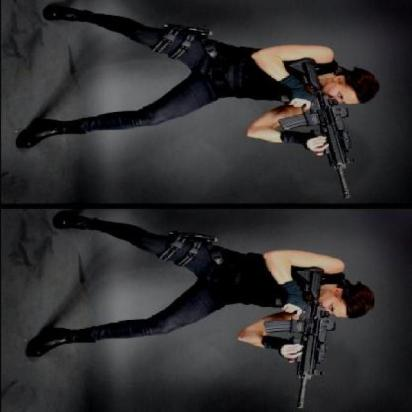Gun: (272, 57, 368, 191), (258, 266, 344, 402)
